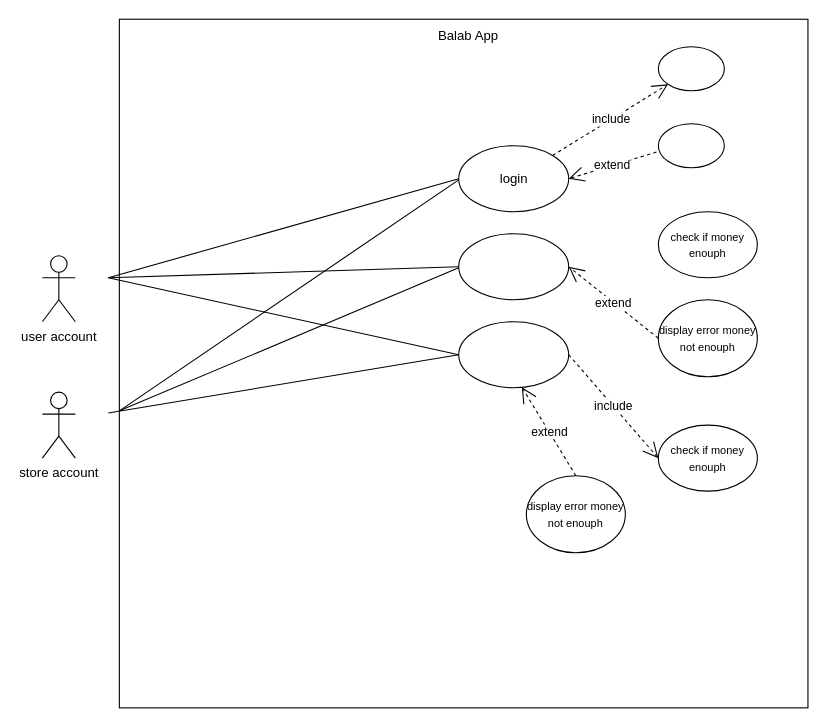
Image size: 827x727. Some labels were removed from this diagram. The shapes that lost their labels are listed below. From the top down, each one's centre as x and y in pixels, then its label:
At (x=690, y=68): "verification".
At (x=690, y=145): "display error".
At (x=513, y=266): "add a sell".
At (x=513, y=354): "buy a product".
